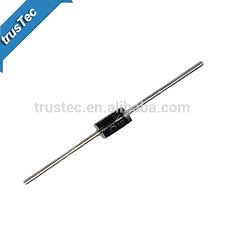diode: (80, 90, 146, 156)
